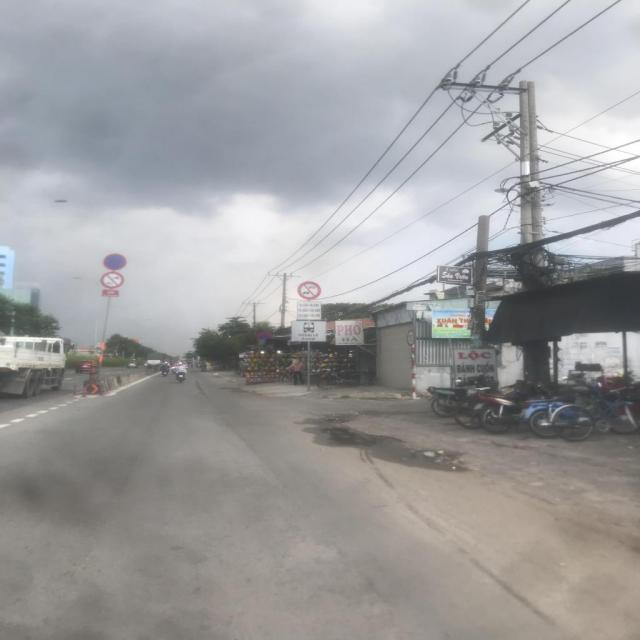cam_dung_xe_va_do_xe: (103, 253, 127, 270), (257, 332, 274, 342)
cam_o_to_tai_va_xe_khach: (298, 281, 322, 300)
cam_xe_2_banh_va_xe_3_banh_co_dong_co: (100, 272, 125, 289)
khac: (292, 321, 326, 342), (297, 302, 321, 319)
